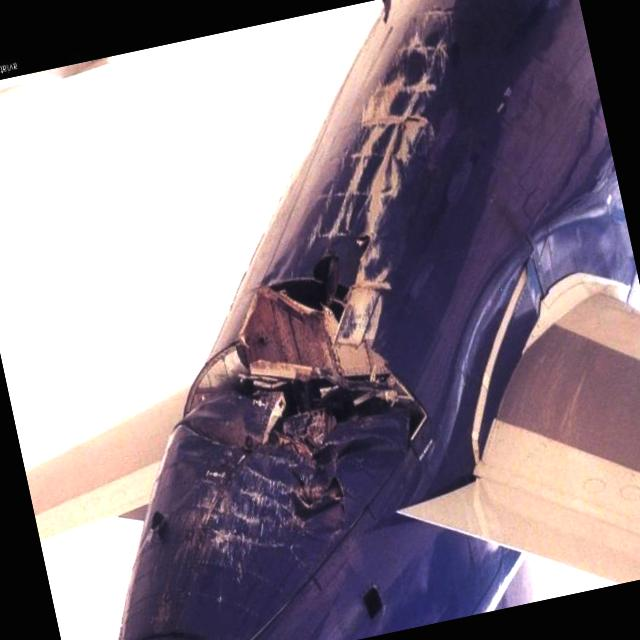crack: (208, 237, 444, 528)
